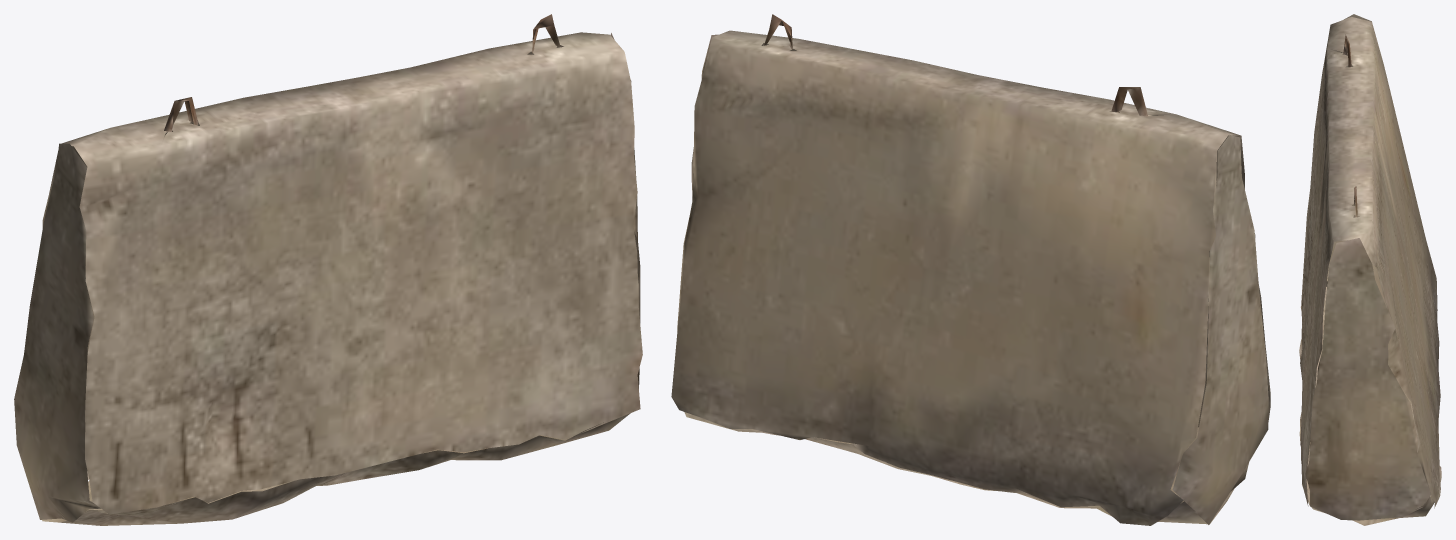
Rendered from jersey-barrier.glb.
The picture shows the model from 3 angles, left to right: view 1: azimuth 30°, elevation 25°; view 2: azimuth 150°, elevation 25°; view 3: azimuth 270°, elevation 25°; orthographic projection. The views are drawn at different scales.
Visible parts, largest first — view 1: concrete_road_barrier_02; view 2: concrete_road_barrier_02; view 3: concrete_road_barrier_02.
Boxes of the visible parts, x1,y1,x2,y2 form: concrete_road_barrier_02: [14, 14, 642, 525]; concrete_road_barrier_02: [671, 14, 1270, 525]; concrete_road_barrier_02: [1299, 14, 1441, 525].
Bounding box in the file's own units: 1.56 × 1.12 × 0.4427.
1 material, 1 textured.
